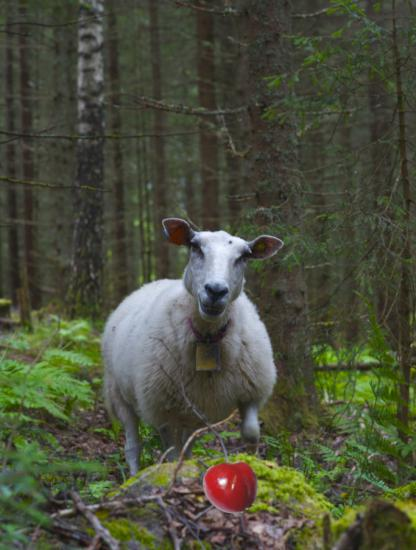Cherry: (204, 458, 260, 514)
